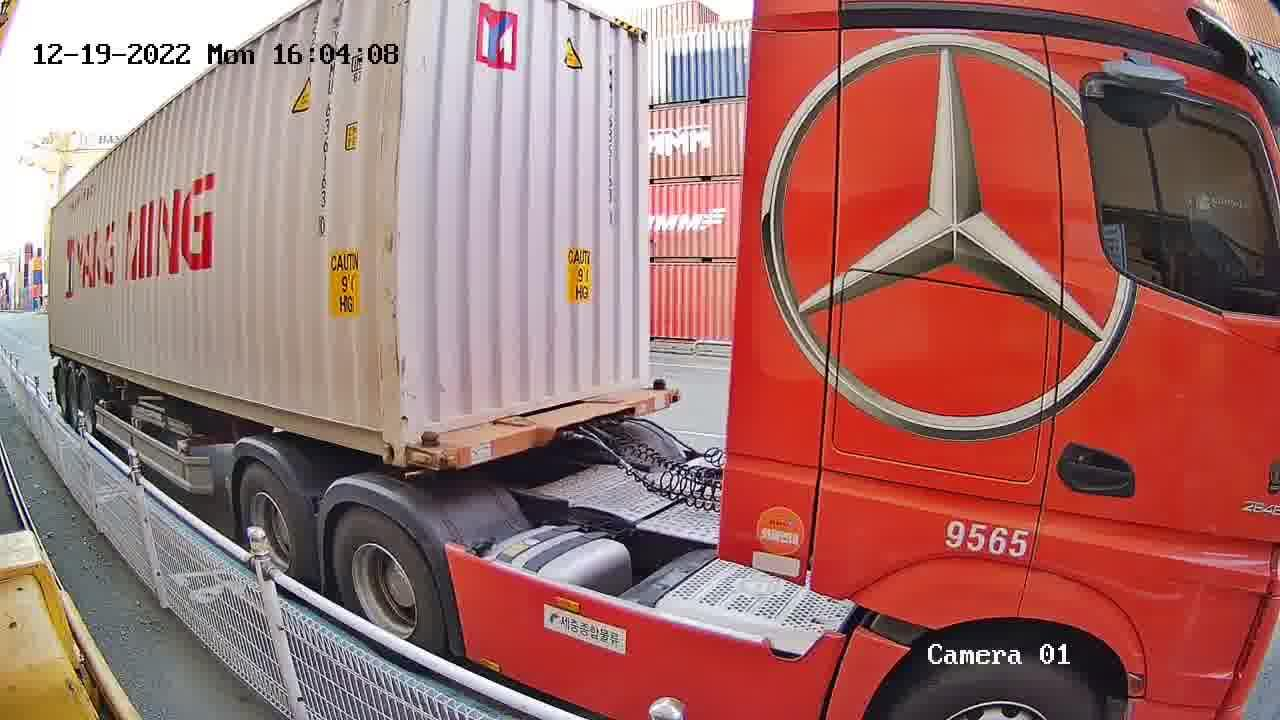Chassis: (408, 384, 680, 471)
Cone: (417, 429, 443, 467), (649, 373, 671, 392)
Hole_R: (360, 410, 407, 467)
Tire: (333, 514, 440, 645), (241, 469, 310, 580)
